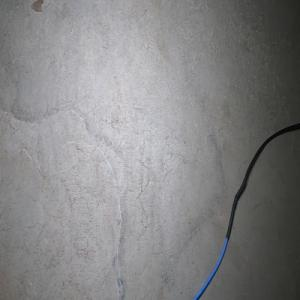Wire: (192, 122, 300, 300)
